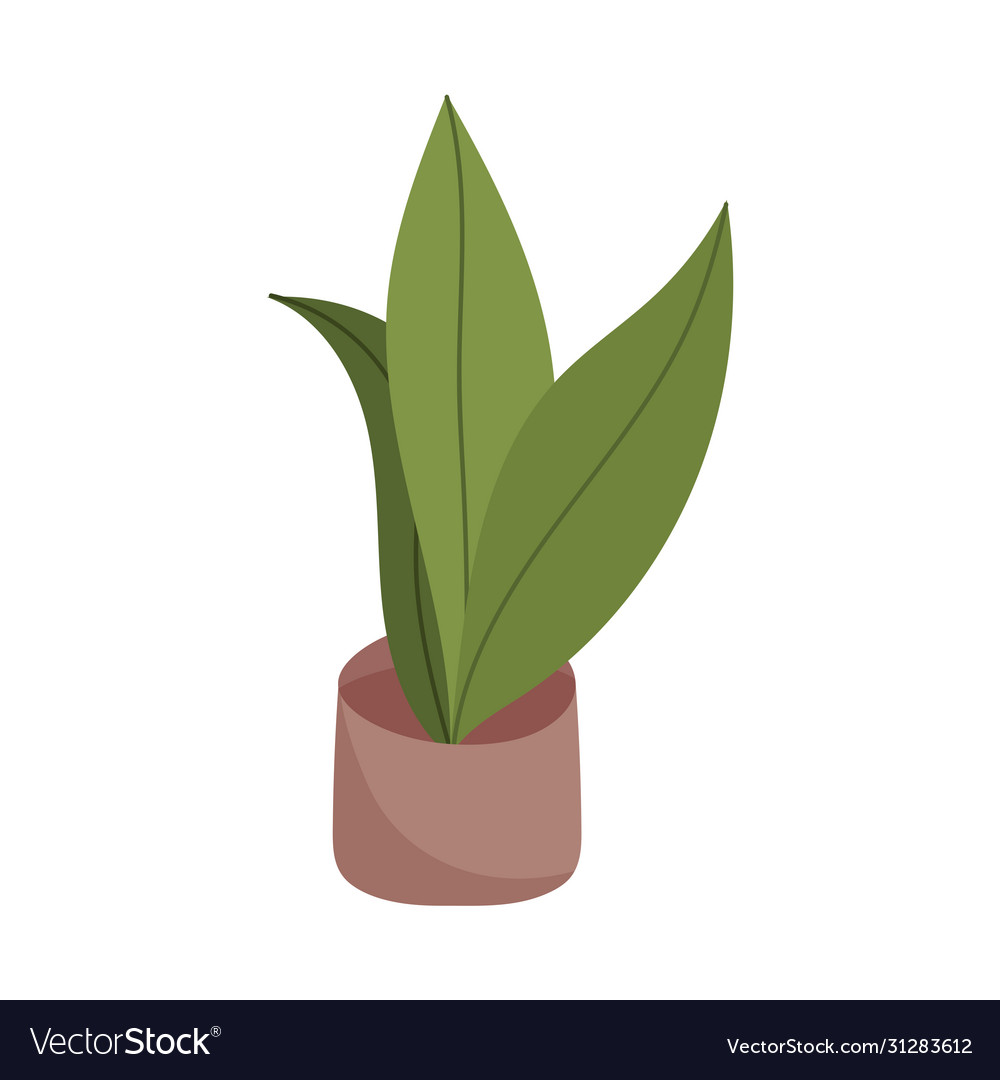tanaman: (297, 103, 719, 923)
